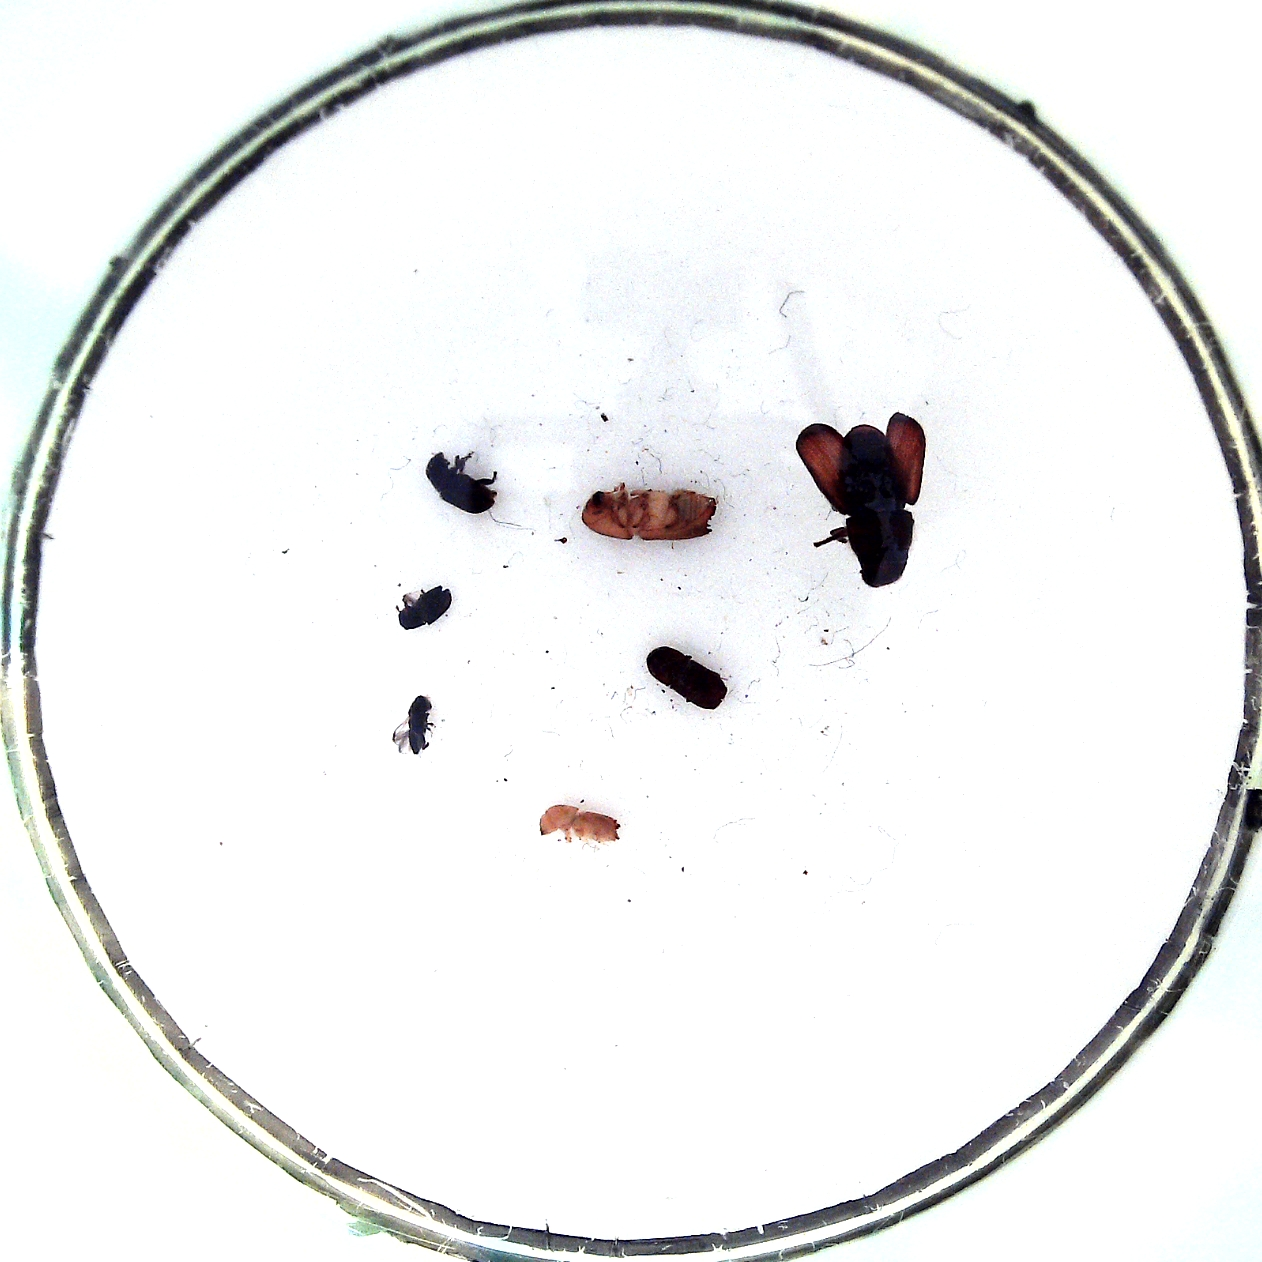Boerner: (581, 487, 717, 540)
Leconte: (840, 424, 914, 588)
acuminatus: (407, 696, 433, 756)
armandi: (426, 451, 498, 515)
coleoptera: (399, 585, 452, 631)
linnaeus: (648, 646, 728, 712), (539, 804, 619, 845)
